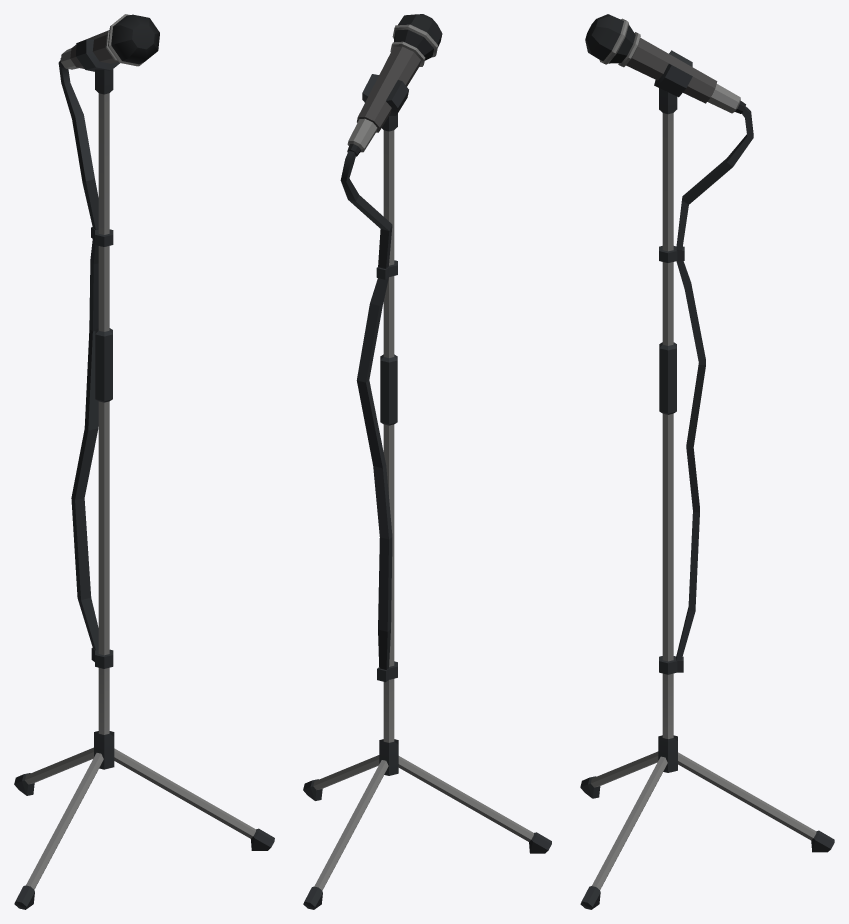
Rendered from SM_Prop_Microphone_Stand_01.fbx.
The picture shows the model from 3 angles, left to right: view 1: azimuth 30°, elevation 25°; view 2: azimuth 150°, elevation 25°; view 3: azimuth 270°, elevation 25°; orthographic projection. The views are drawn at different scales.
Parts seen in each view (by area): view 1: SM_Prop_Microphone_Stand_01; view 2: SM_Prop_Microphone_Stand_01; view 3: SM_Prop_Microphone_Stand_01.
Boxes of the visible parts, x1,y1,x2,y2 form: SM_Prop_Microphone_Stand_01: [14, 14, 274, 909]; SM_Prop_Microphone_Stand_01: [303, 14, 551, 909]; SM_Prop_Microphone_Stand_01: [580, 14, 834, 909].
Bounding box in the file's own units: 48.06 × 152 × 41.88.
